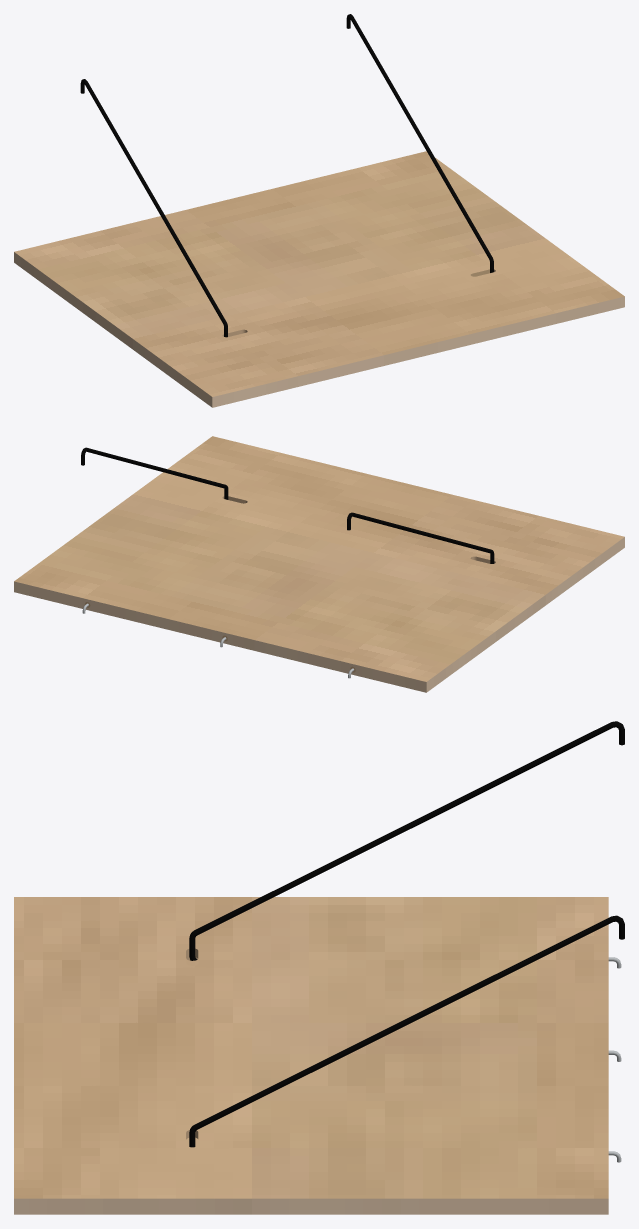
Rendered from desk60x50.glb.
3 renders of one model, top to bottom at view 1: azimuth 30°, elevation 25°; view 2: azimuth 150°, elevation 25°; view 3: azimuth 270°, elevation 25°, orthographic. The views are drawn at different scales.
Visible parts, largest first — view 1: Geom3D (×4); view 2: Geom3D (×4); view 3: Geom3D (×4).
Boxes of the visible parts, box(x1,y1,x2,y2) form: Geom3D (×4): box(14, 14, 624, 407); Geom3D (×4): box(14, 436, 624, 692); Geom3D (×4): box(14, 721, 624, 1214).
Bounding box in the file's own units: 0.6 × 0.2281 × 0.5137.
4 materials, 3 textured.
